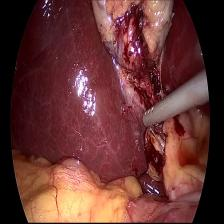Irrigator: (140, 94, 164, 131)
